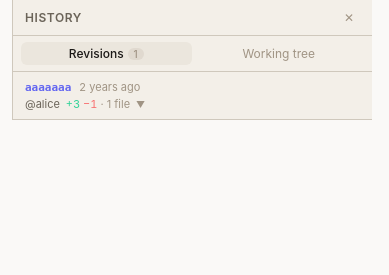
RevisionBrowser › collapses an expanded revision when clicked again
Click the text "aaaaaaa" at (48, 87), box [25, 80, 71, 94]
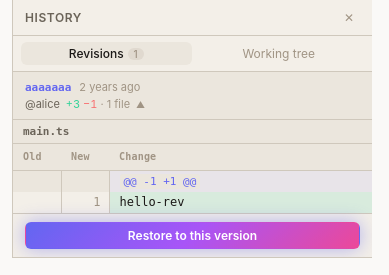
Now the text "hello-rev" is shown, box [120, 195, 184, 209]
Click the text "aaaaaaa" at (48, 87), box [25, 80, 71, 94]
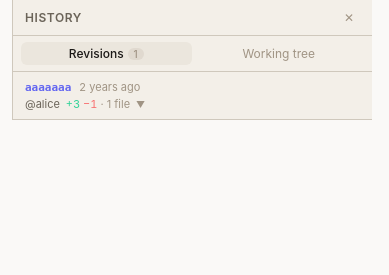
Now the text "hello-rev" is gone
